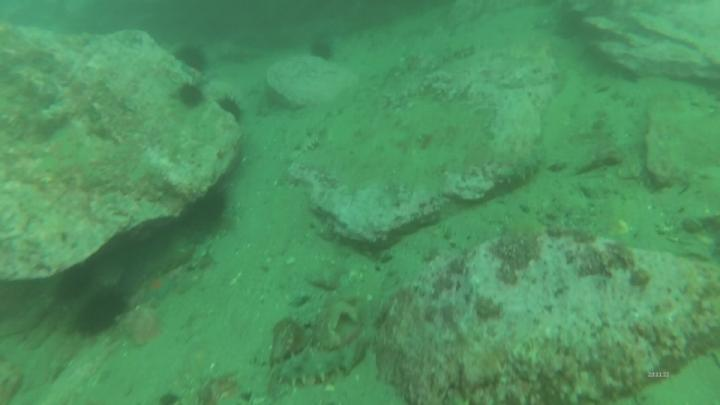echinus: (70, 278, 135, 343), (172, 40, 216, 78), (172, 78, 216, 112), (212, 90, 250, 128)
holothurian: (278, 344, 367, 386)
